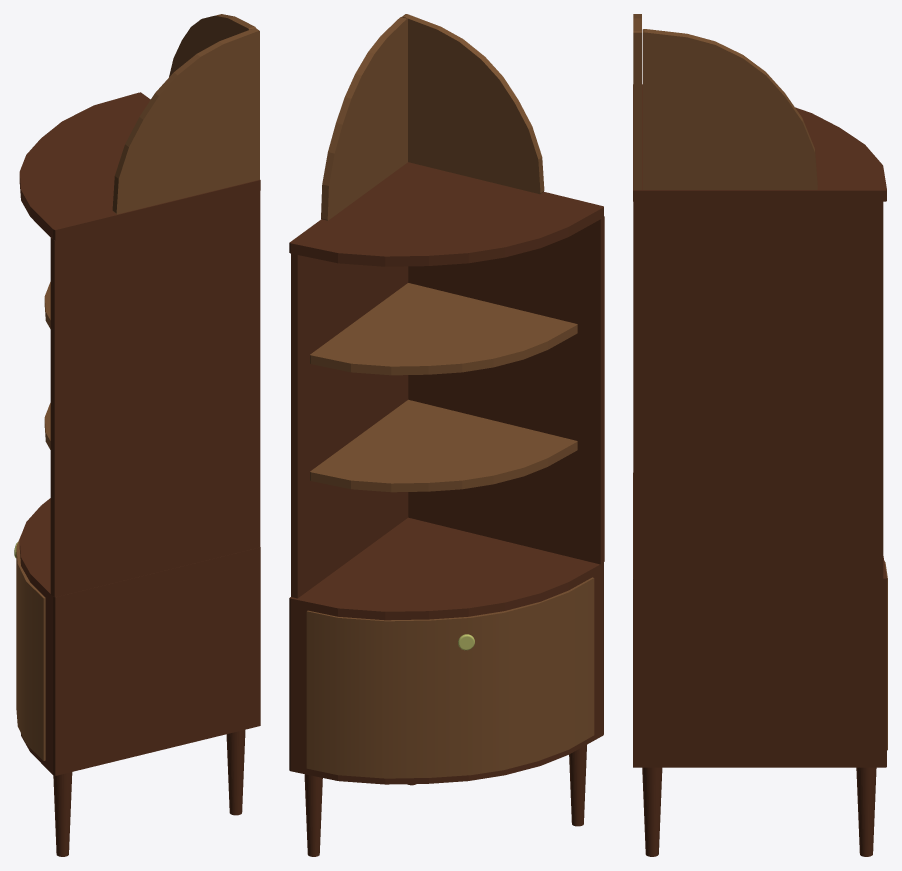
File: Angoliera.fbx
3 views of the same model, side by side, from view 1: azimuth 30°, elevation 25°; view 2: azimuth 150°, elevation 25°; view 3: azimuth 270°, elevation 25° (orthographic). The views are drawn at different scales.
Parts seen in each view (by area): view 1: casetto.001; view 2: casetto.001; view 3: casetto.001.
Part boxes in pixels (box(x1,y1,x2,y2)): casetto.001: box(14, 14, 260, 856); casetto.001: box(289, 14, 604, 856); casetto.001: box(633, 14, 887, 856).
Size of the model in its own units: 60.5 by 220 by 61.22.
